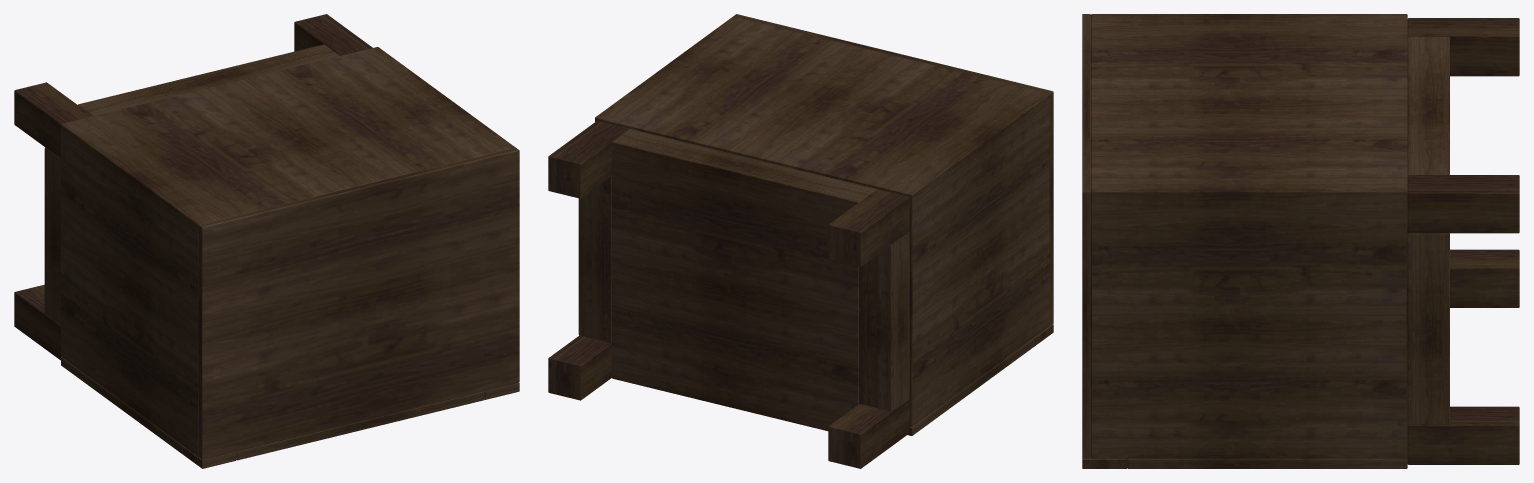
3 renders of one model, left to right at view 1: azimuth 30°, elevation 25°; view 2: azimuth 150°, elevation 25°; view 3: azimuth 270°, elevation 25°, orthographic. The views are drawn at different scales.
Visible parts, largest first — view 1: Metal___Stainless_steel_1; view 2: Metal___Stainless_steel_1; view 3: Metal___Stainless_steel_1.
Part boxes in pixels (left/top/right/bottom): Metal___Stainless_steel_1: left=14, top=14, right=519, bottom=468; Metal___Stainless_steel_1: left=548, top=14, right=1053, bottom=468; Metal___Stainless_steel_1: left=1082, top=14, right=1519, bottom=468.
Bounding box in the file's own units: 0.5588 × 0.4064 × 0.5805.
Materials: 1 (1 with a texture image).
